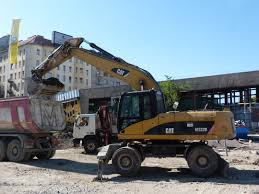excavator: (26, 36, 236, 180)
